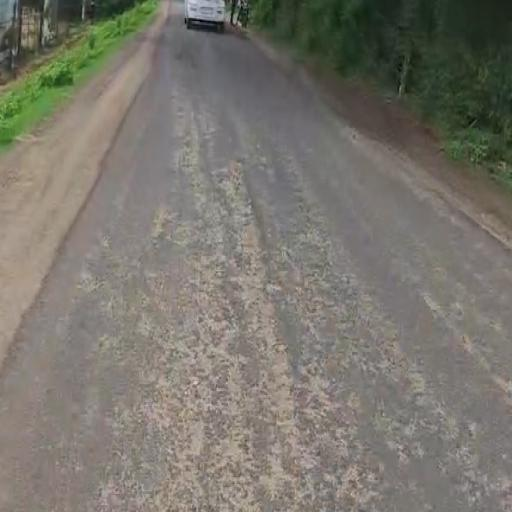ravelling: (118, 142, 413, 501)
